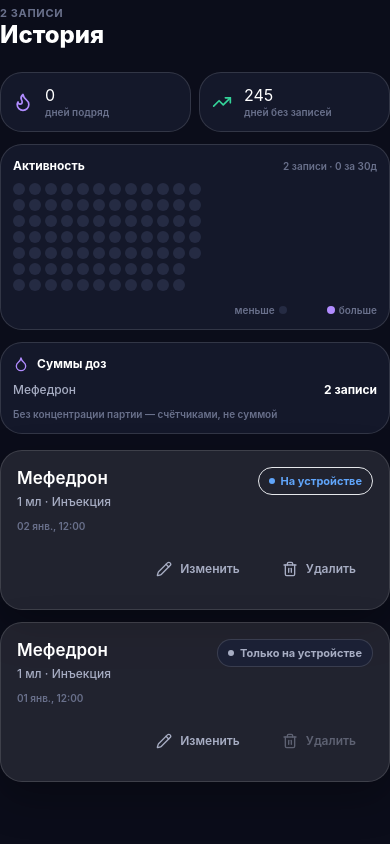
Test: History › opens entry details
The image size is (390, 844).
Click the button with aria-label "Открыть" at (62, 478), box [17,467,373,533]
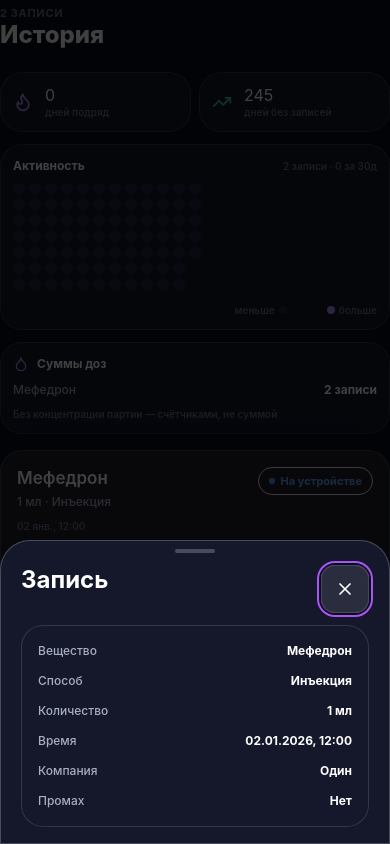
Now the dialog "Запись" is shown, box [0,540,389,843]
